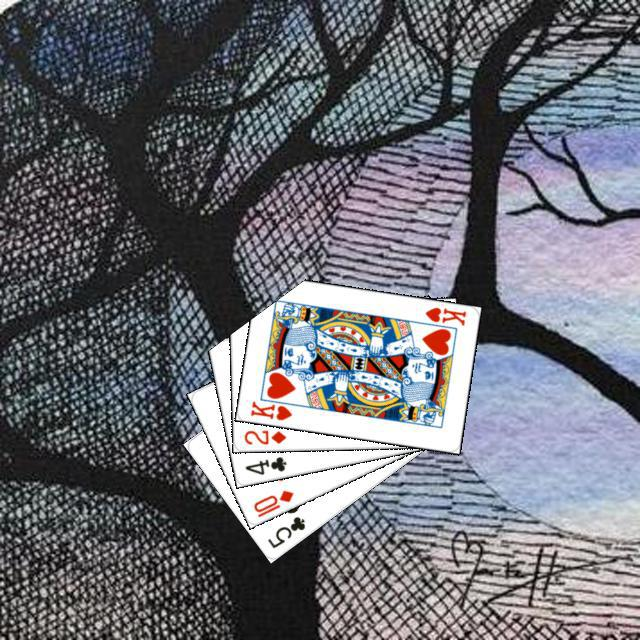10d: (249, 485, 295, 519)
2d: (239, 425, 288, 446)
4c: (240, 452, 288, 477)
5c: (263, 511, 307, 550)
Kh: (245, 392, 299, 422), (420, 302, 468, 327)
